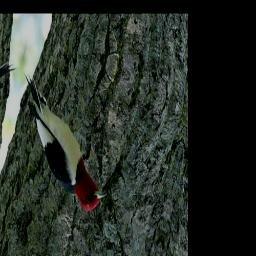Woodpecker: (2, 60, 126, 231)
